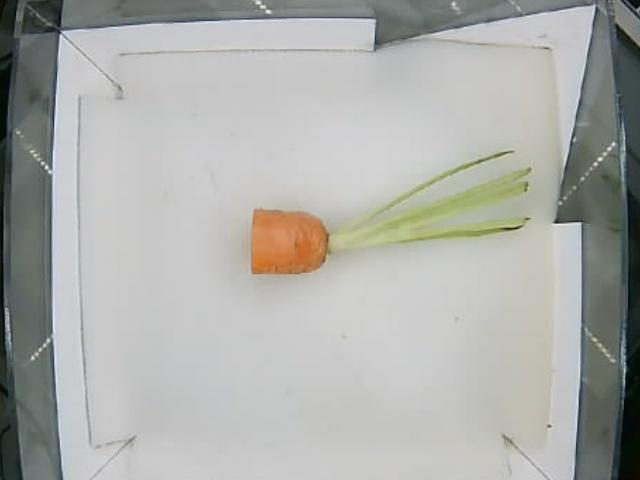Carrot: (249, 206, 396, 278)
